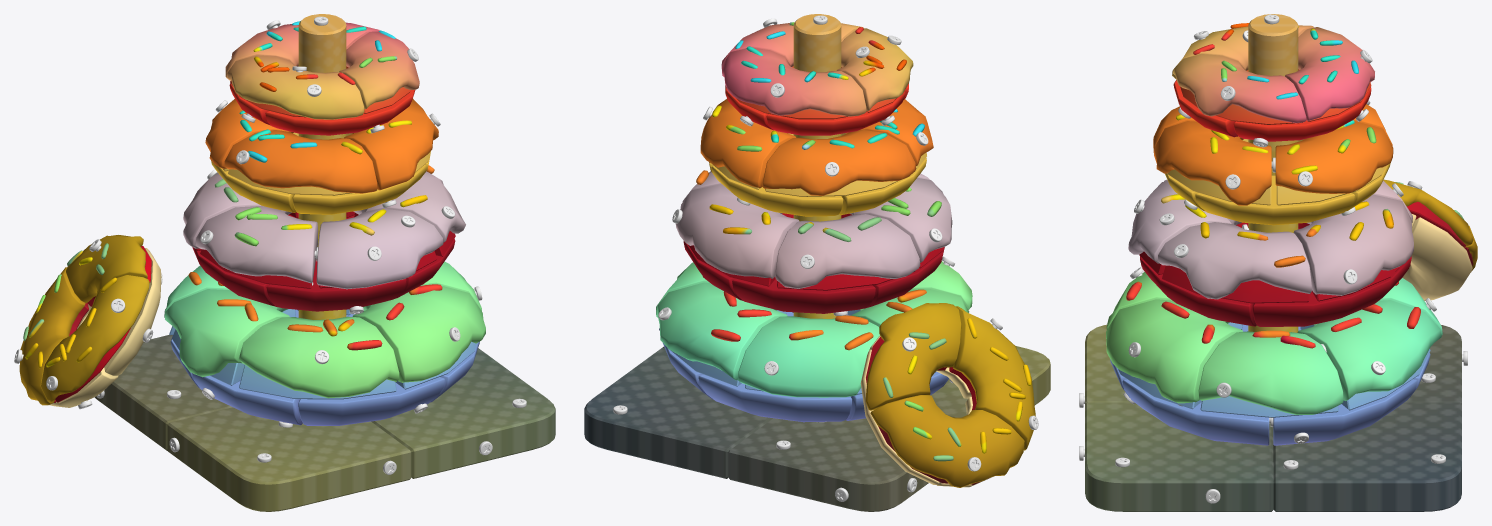
File: lvl_55.fbx
The picture shows the model from 3 angles, left to right: view 1: azimuth 30°, elevation 25°; view 2: azimuth 150°, elevation 25°; view 3: azimuth 270°, elevation 25°; orthographic projection. The views are drawn at different scales.
Parts seen in each view (by area): view 1: Cube_L5_4, Cube_L5, Cube_L3_7, Cube_L3_4, Cube_L2_4, Cube_L1_11, Cube_L2_8, Cube_L3_11, Cube_L5_3, Cube_L4_4, Cube_L1_5, Cube_L1_1 (+20 smaller); view 2: Cube_L5_1, Cube_L5_3, Cube_L3_8, Cube_L4_3, Cube_L2_7, Cube_L1_12, Cube_L2_3, Cube_L3_3, Cube_L4, Cube_L1_2, Cube_L4_4, Cube_L1_8 (+20 smaller); view 3: Cube_L5_1, Cube_L5, Cube_L3, Cube_L2, Cube_L3_4, Cube_L3_3, Cube_L2_3, Cube_L1_8, Cube_L1_7, Cube_L1_1, Cube_L1_2, Cube_L5_2 (+17 smaller).
Part boxes in pixels (x1,y1,x2,y2): Cube_L5_4: (167, 407, 411, 511); Cube_L5: (371, 348, 555, 478); Cube_L3_7: (238, 316, 399, 399); Cube_L3_4: (352, 284, 485, 389); Cube_L2_4: (316, 208, 443, 289); Cube_L1_11: (224, 129, 377, 195); Cube_L2_8: (195, 205, 318, 288); Cube_L3_11: (165, 289, 289, 385); Cube_L5_3: (94, 334, 232, 450); Cube_L4_4: (41, 275, 149, 403); Cube_L1_5: (226, 55, 364, 119); Cube_L1_1: (339, 30, 419, 113); Cube_L5_1: (584, 347, 772, 478); Cube_L5_3: (728, 418, 928, 511); Cube_L3_8: (738, 315, 879, 397); Cube_L4_3: (870, 395, 1024, 487); Cube_L2_7: (775, 214, 920, 290); Cube_L1_12: (762, 130, 916, 196); Cube_L2_3: (675, 184, 799, 286); Cube_L3_3: (656, 282, 787, 386); Cube_L4: (865, 303, 961, 410); Cube_L1_2: (721, 46, 866, 119); Cube_L4_4: (949, 306, 1035, 450); Cube_L1_8: (700, 99, 796, 189); Cube_L5_1: (1273, 402, 1461, 511); Cube_L5: (1085, 402, 1273, 511); Cube_L3: (1198, 330, 1343, 417); Cube_L2: (1157, 222, 1311, 303); Cube_L3_4: (1106, 299, 1242, 409); Cube_L3_3: (1297, 300, 1441, 410); Cube_L2_3: (1293, 194, 1413, 301); Cube_L1_8: (1275, 120, 1393, 205); Cube_L1_7: (1154, 121, 1271, 205); Cube_L1_1: (1173, 54, 1306, 124); Cube_L1_2: (1285, 27, 1374, 121); Cube_L5_2: (1248, 14, 1298, 332).
Size of the model in its own units: 14.95 by 14.21 by 12.09.
